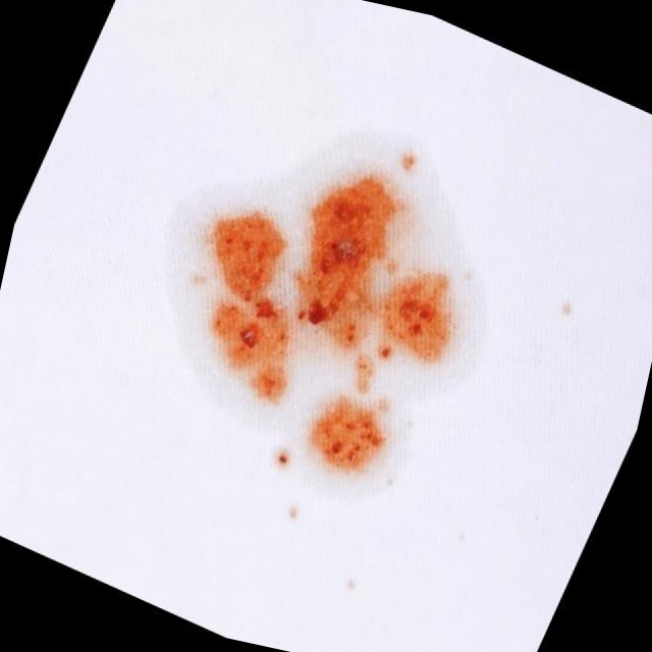kimchi: (122, 105, 522, 516), (546, 288, 584, 332), (276, 501, 301, 534), (340, 573, 362, 600)
